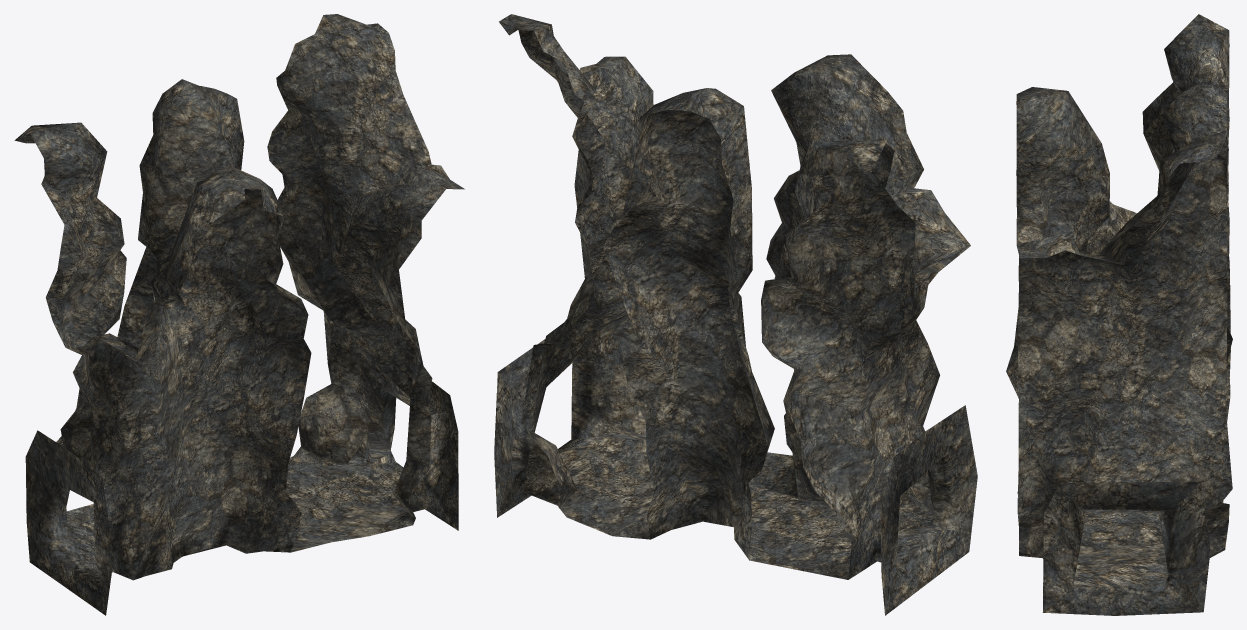
File: Module13A_LOD2.fbx
3 views of the same model, side by side, from view 1: azimuth 30°, elevation 25°; view 2: azimuth 150°, elevation 25°; view 3: azimuth 270°, elevation 25° (orthographic). The views are drawn at different scales.
Parts seen in each view (by area): view 1: cave_el13_1900_Group18712; view 2: cave_el13_1900_Group18712; view 3: cave_el13_1900_Group18712.
Part boxes in pixels (<box>): cave_el13_1900_Group18712: <box>14,14,464,615</box>; cave_el13_1900_Group18712: <box>494,14,977,615</box>; cave_el13_1900_Group18712: <box>1006,14,1232,615</box>.
Size of the model in its own units: 20.53 by 25.7 by 11.38.
